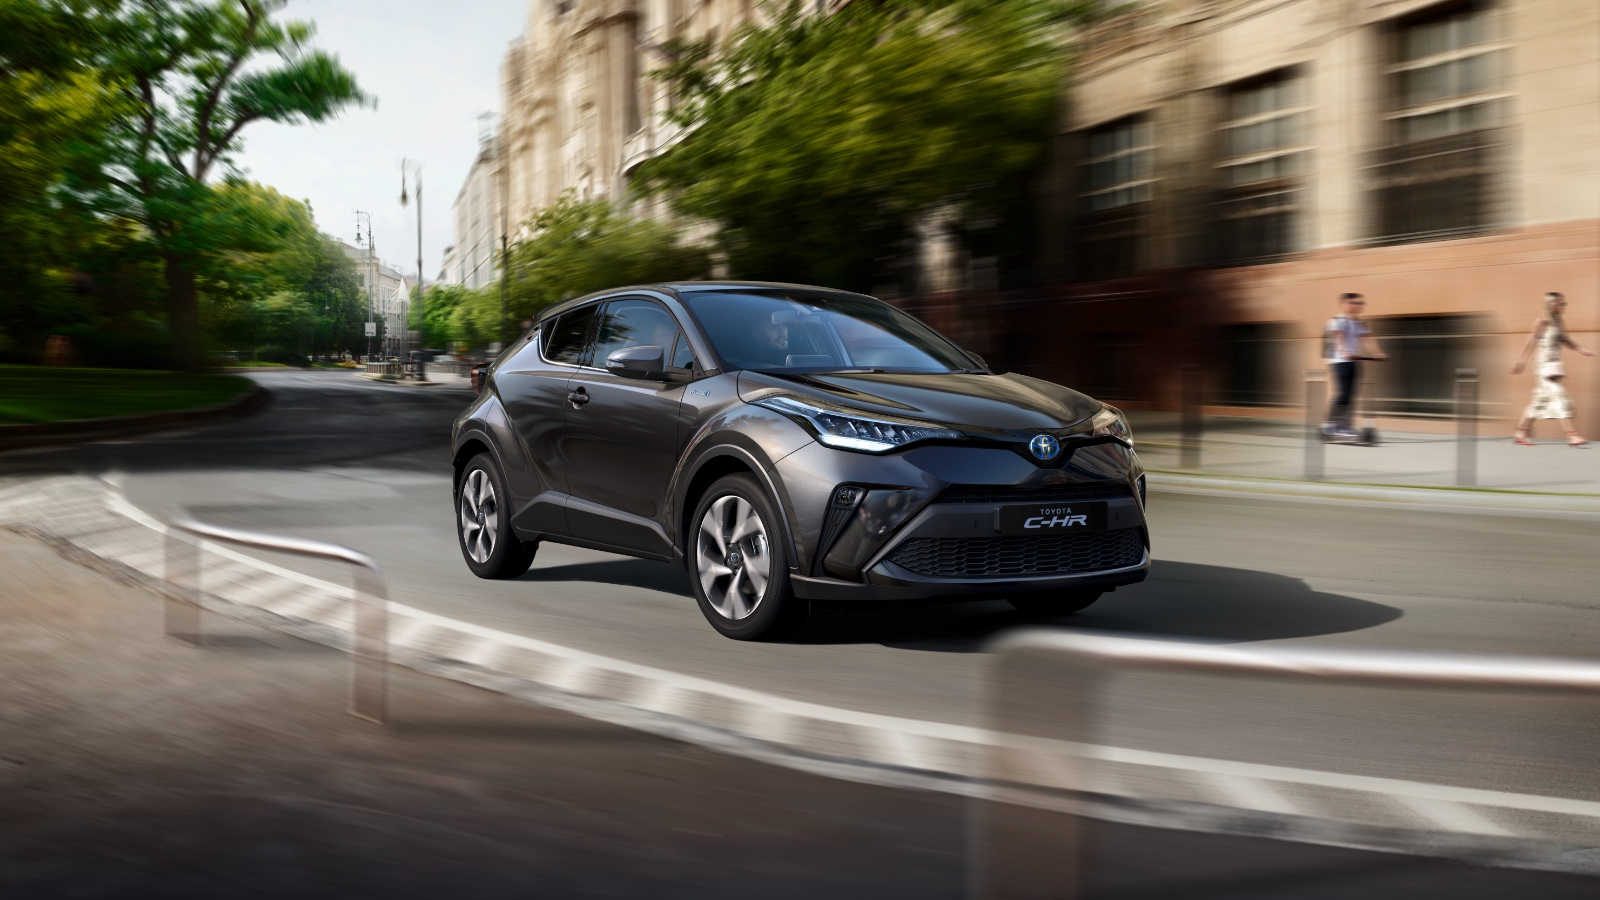car: (447, 280, 1151, 644)
